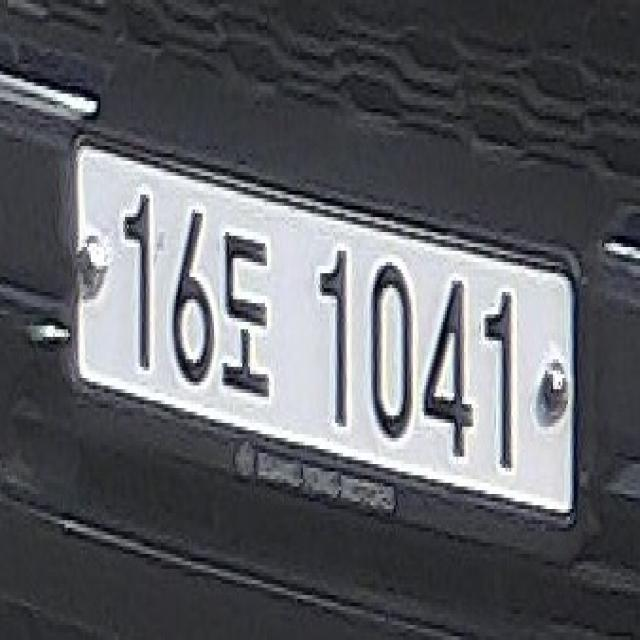0: (362, 247, 418, 457)
1: (308, 228, 359, 442), (477, 269, 523, 483), (114, 176, 161, 385)
4: (419, 258, 477, 468)
6: (164, 191, 220, 400)
do: (218, 213, 274, 412)
license_plate: (62, 120, 591, 542)
